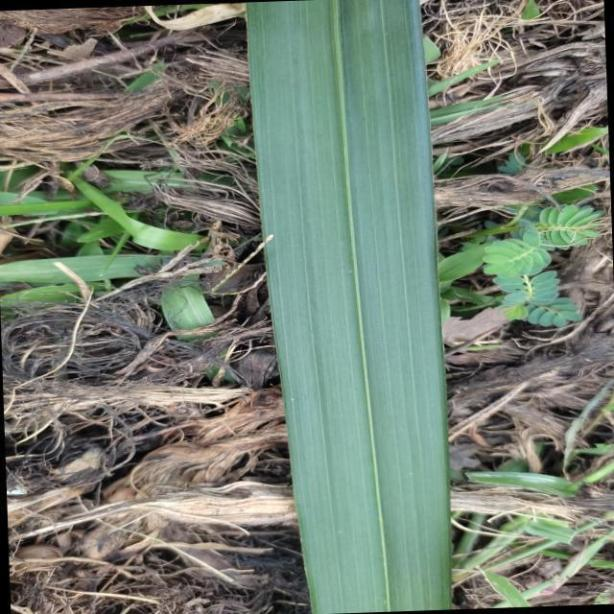Healthy: (246, 1, 450, 614)
